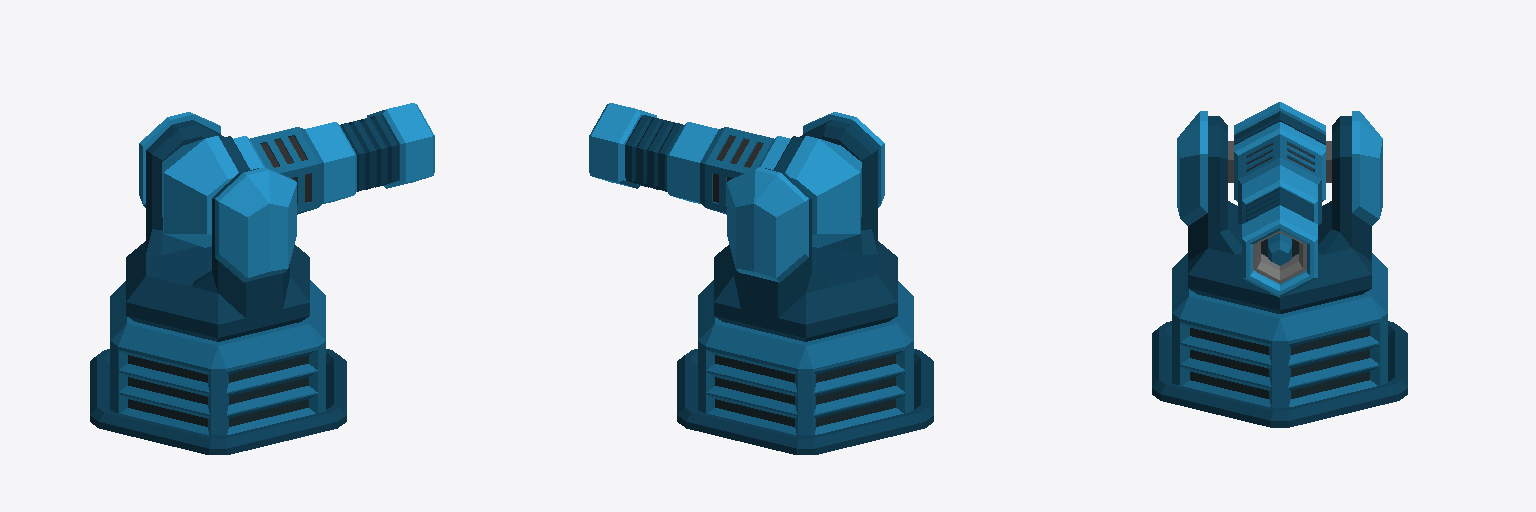
Rendered from Spacestation_Weapon_Cannon.obj.
The picture shows the model from 3 angles: view 1: azimuth 30°, elevation 25°; view 2: azimuth 150°, elevation 25°; view 3: azimuth 270°, elevation 25°; orthographic projection.
Parts seen in each view (by area): view 1: object12, object5, object13, object14, object11, object3, object6, object9, object16, object10, object4; view 2: object12, object5, object13, object10, object11, object3, object6, object9, object16, object14, object4; view 3: object12, object5, object11, object13, object3, object9, object10, object14, object16, object2, object6, object1 (+1 smaller).
Boxes of the visible parts, <box> form: object12: <box>110,280,325,434</box>; object5: <box>126,120,309,341</box>; object13: <box>162,122,356,247</box>; object14: <box>215,167,296,282</box>; object11: <box>90,349,346,454</box>; object3: <box>128,355,308,426</box>; object6: <box>340,115,398,191</box>; object9: <box>367,103,434,188</box>; object16: <box>250,127,323,214</box>; object10: <box>139,112,220,207</box>; object4: <box>261,136,310,202</box>; object12: <box>698,280,913,434</box>; object5: <box>714,120,897,341</box>; object13: <box>667,122,861,247</box>; object10: <box>727,167,808,282</box>; object11: <box>677,349,933,454</box>; object3: <box>715,355,895,426</box>; object6: <box>625,115,683,191</box>; object9: <box>589,103,656,188</box>; object16: <box>700,127,773,214</box>; object14: <box>803,112,884,207</box>; object4: <box>713,136,762,202</box>; object12: <box>1172,253,1387,407</box>; object5: <box>1188,116,1371,313</box>; object11: <box>1152,321,1407,427</box>; object13: <box>1234,102,1325,223</box>; object3: <box>1190,328,1369,398</box>; object9: <box>1242,205,1317,297</box>; object10: <box>1352,111,1382,225</box>; object14: <box>1177,111,1207,225</box>; object16: <box>1238,134,1321,224</box>; object2: <box>1253,231,1306,283</box>; object6: <box>1246,187,1313,221</box>; object1: <box>1234,111,1325,144</box>.
Size of the model in its own units: 2.48 by 1.9 by 1.71.